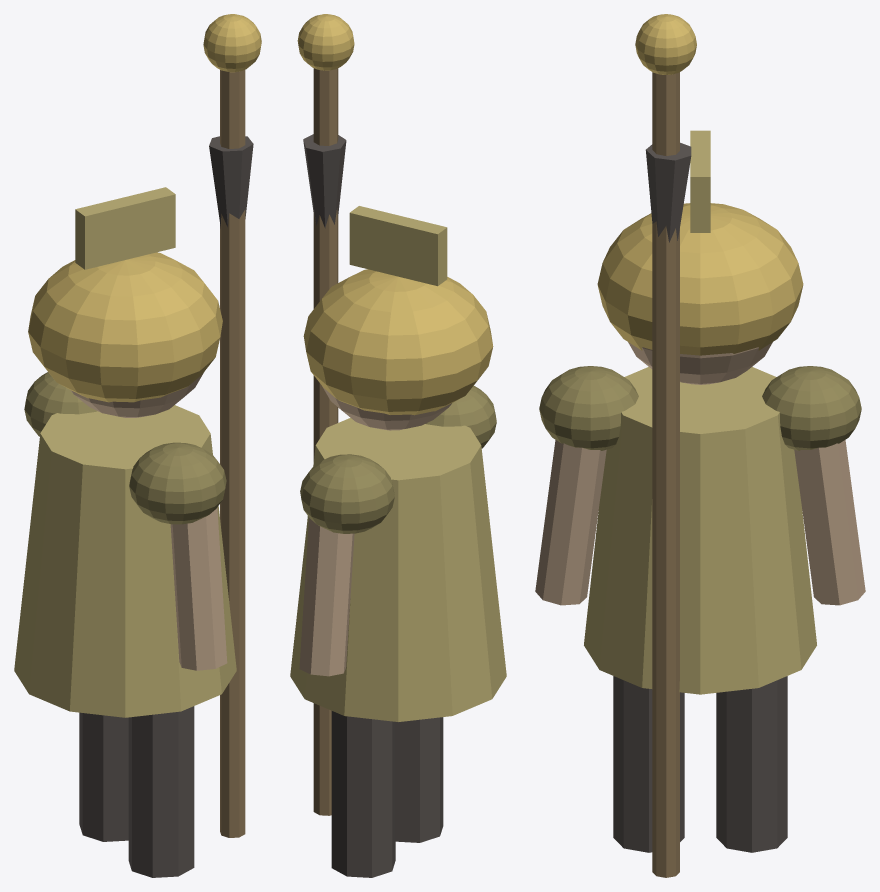
Rendered from hero_sarn_4.glb.
3 views of the same model, side by side, from view 1: azimuth 30°, elevation 25°; view 2: azimuth 150°, elevation 25°; view 3: azimuth 270°, elevation 25° (orthographic). The views are drawn at different scales.
Visible parts, largest first — view 1: figurka; view 2: figurka; view 3: figurka.
Boxes of the visible parts, box(x1,y1,x2,y2) form: figurka: box(14, 14, 261, 877); figurka: box(290, 14, 506, 877); figurka: box(535, 14, 865, 877).
Bounding box in the file's own units: 0.375 × 1.38 × 0.4814.
